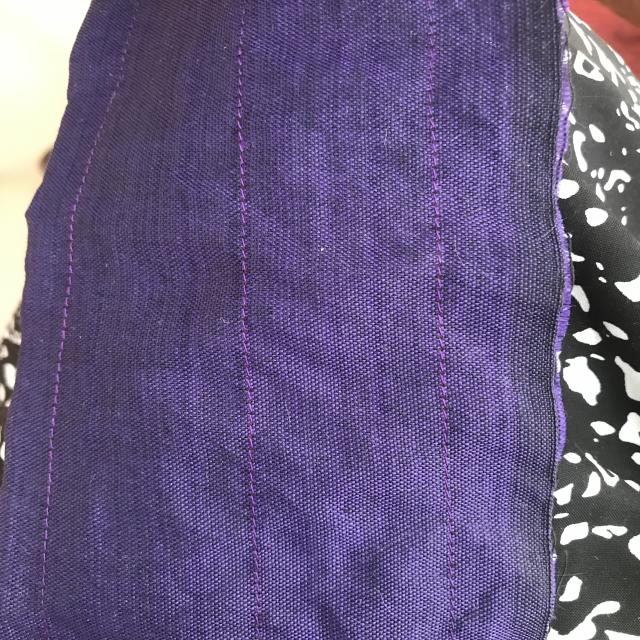good: (214, 49, 273, 314), (46, 337, 79, 447), (36, 474, 64, 598)
